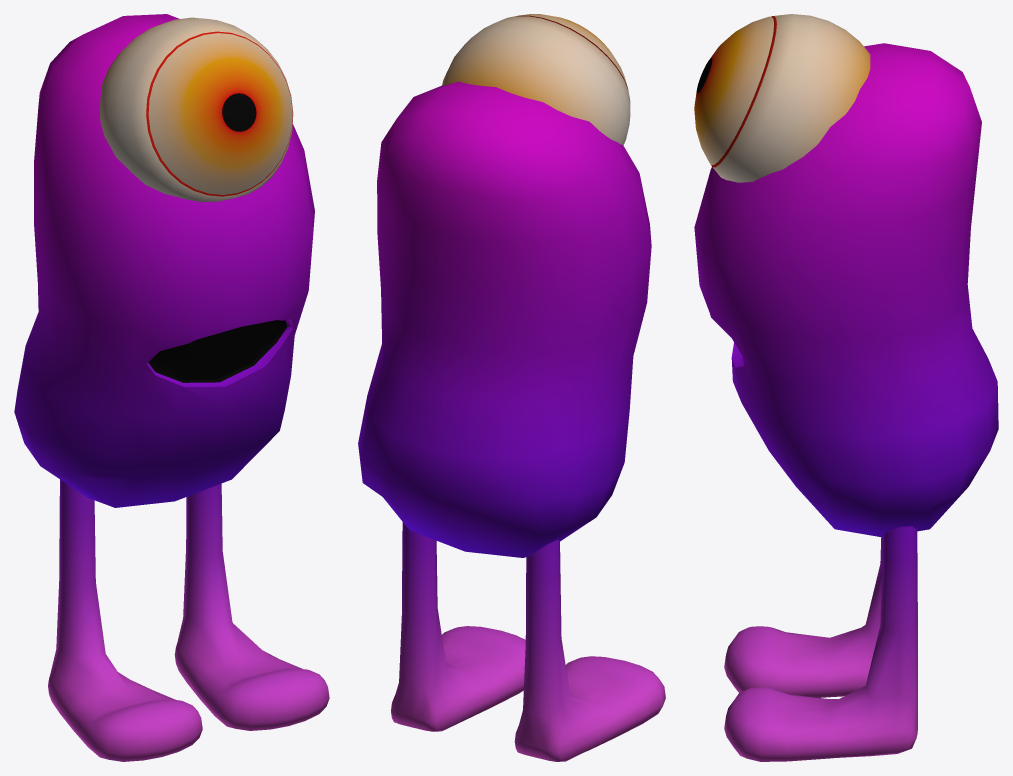
The model's file is EyeEnemy.fbx.
The picture shows the model from 3 angles, left to right: view 1: azimuth 30°, elevation 25°; view 2: azimuth 150°, elevation 25°; view 3: azimuth 270°, elevation 25°; orthographic projection. The views are drawn at different scales.
Parts seen in each view (by area): view 1: Cube, Cube.001, Cube.002; view 2: Cube, Cube.001, Cube.002; view 3: Cube, Cube.002, Cube.001.
Part boxes in pixels (<box>): Cube: <box>14,14,314,507</box>; Cube.001: <box>48,479,202,761</box>; Cube.002: <box>174,483,329,730</box>; Cube: <box>358,14,651,557</box>; Cube.001: <box>514,539,665,761</box>; Cube.002: <box>391,522,525,731</box>; Cube: <box>694,14,998,537</box>; Cube.002: <box>724,526,917,761</box>; Cube.001: <box>724,531,917,697</box>.
Bounding box in the file's own units: 66.23 × 183 × 72.88.
